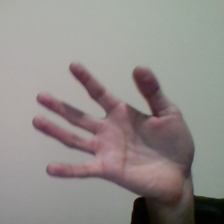left: (28, 52, 200, 204)
